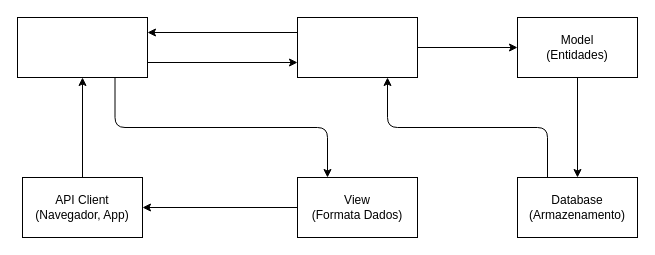
Some shapes in this 655 by 255 pixel diagram are drawn without their labels. The shapes that lost their labels are listed below. From the top down, each one's box as (x1, y1, x2, y2) in pixels, then its label:
(16, 16, 148, 78): Controller (Recebe Requisições)
(296, 16, 418, 78): Service (Lógica de negócio)
